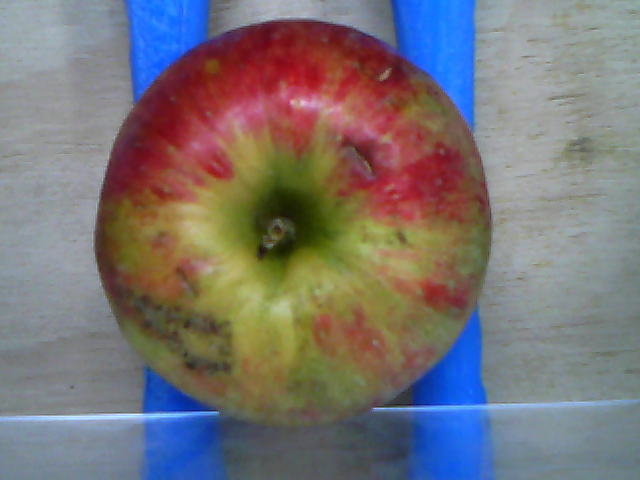cut: (344, 139, 377, 178)
